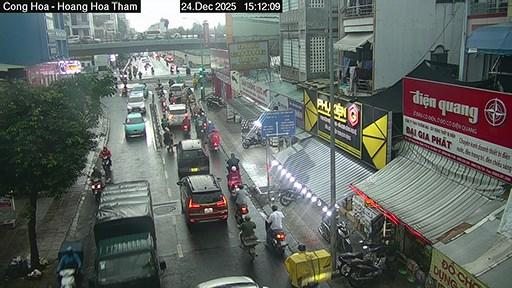motorbike: (339, 238, 387, 275), (346, 256, 393, 286), (57, 262, 80, 287), (239, 232, 258, 260), (57, 241, 82, 261), (268, 229, 287, 255), (336, 219, 351, 251), (278, 189, 303, 205), (243, 130, 265, 148), (227, 171, 242, 196), (317, 214, 330, 242), (58, 269, 75, 287), (90, 177, 102, 202), (234, 203, 248, 224), (205, 94, 223, 107), (102, 156, 111, 181), (197, 121, 207, 142), (208, 135, 220, 151), (182, 121, 189, 138), (160, 98, 166, 109), (166, 142, 172, 152), (121, 88, 127, 95), (185, 67, 189, 75), (150, 67, 153, 75), (265, 221, 268, 229), (137, 72, 140, 79)
